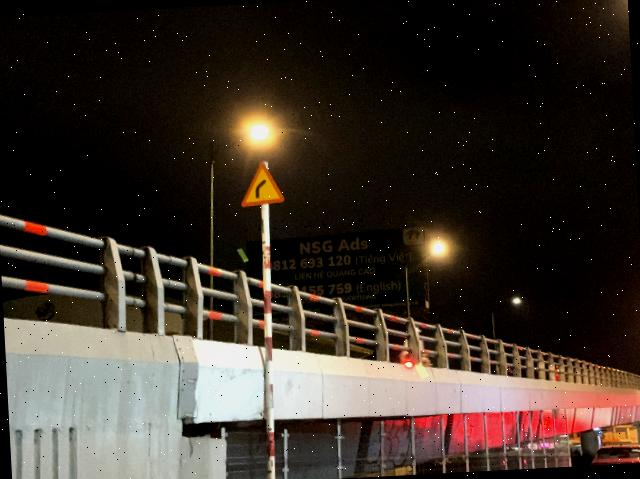cho-ngoat-nguy-hiem-ben-phai: (240, 160, 284, 207)
